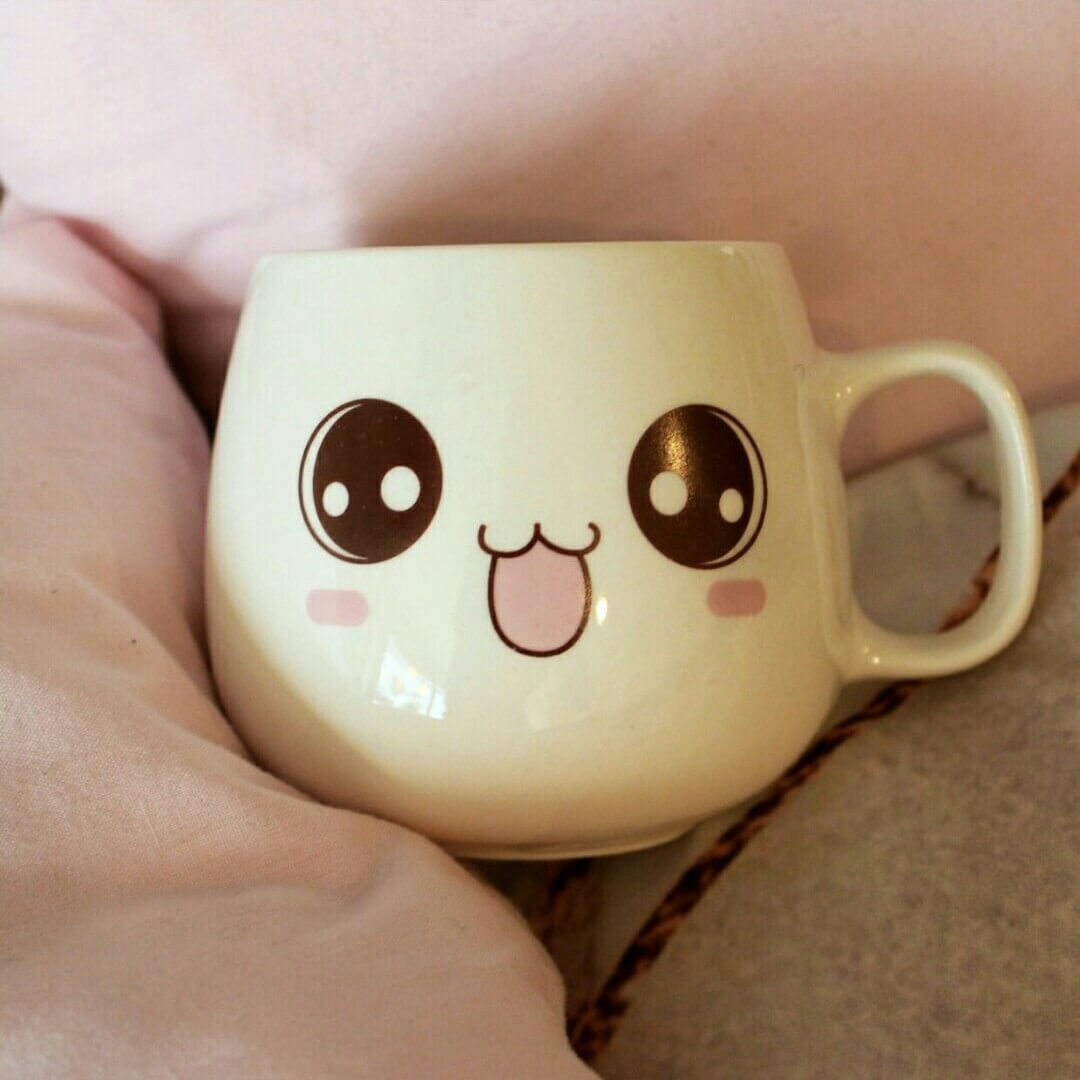gelas: (166, 221, 1041, 896)
